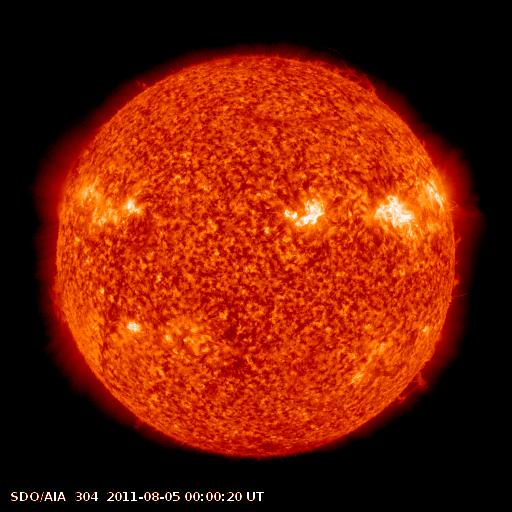prominence: (303, 51, 387, 97), (43, 271, 80, 337), (388, 364, 438, 407)
